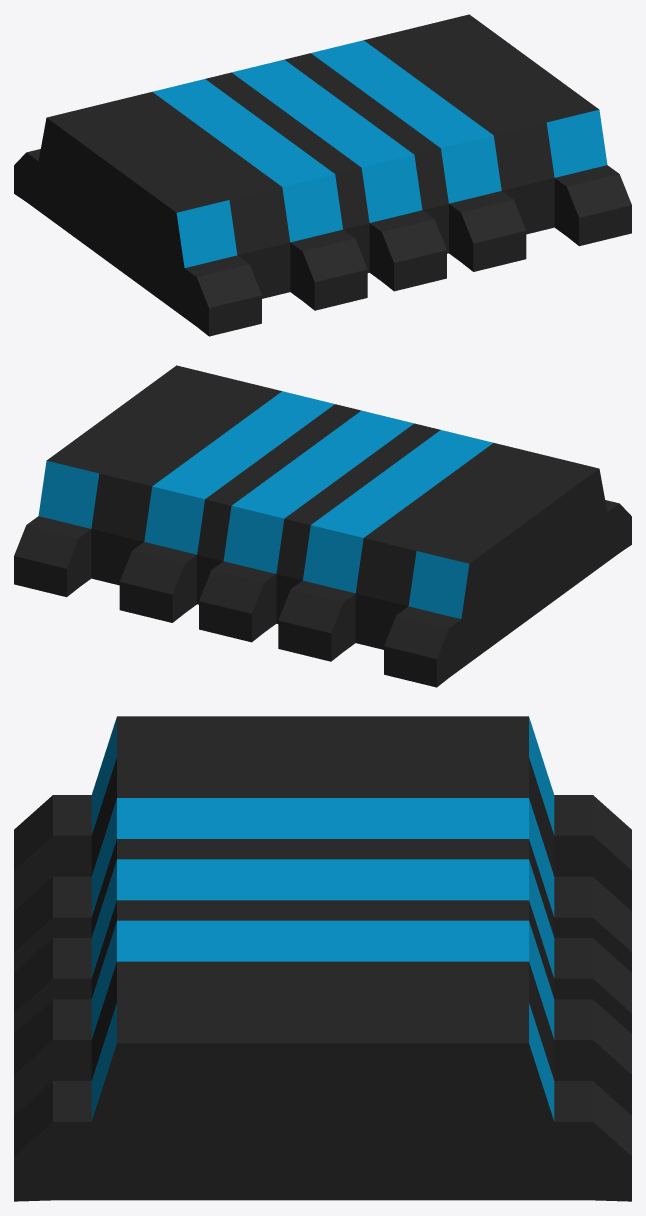
File: FlatBuildNeon04.fbx
3 renders of one model, top to bottom at view 1: azimuth 30°, elevation 25°; view 2: azimuth 150°, elevation 25°; view 3: azimuth 270°, elevation 25°, orthographic. The views are drawn at different scales.
Visible parts, largest first — view 1: FlatBuildNeon04; view 2: FlatBuildNeon04; view 3: FlatBuildNeon04.
Boxes of the visible parts, x1,y1,x2,y2 form: FlatBuildNeon04: (14,14,631,336); FlatBuildNeon04: (14,365,631,687); FlatBuildNeon04: (14,716,631,1201).
Size of the model in its own units: 1.86 by 0.4203 by 1.49.
